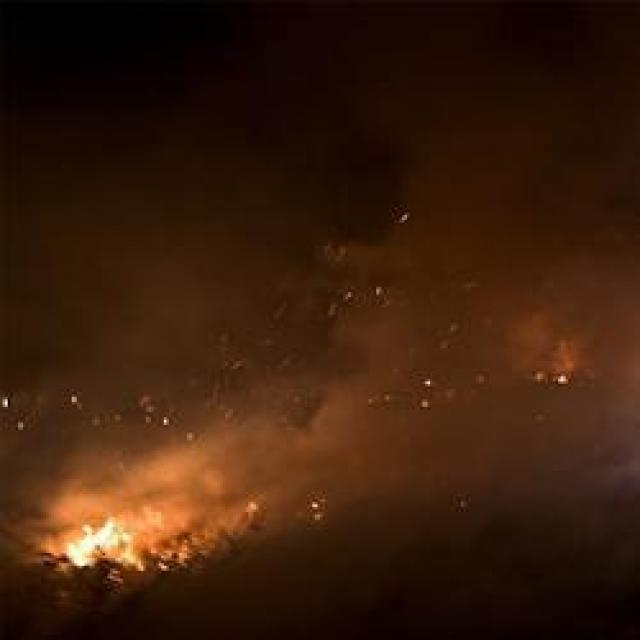fire: (54, 502, 150, 576)
